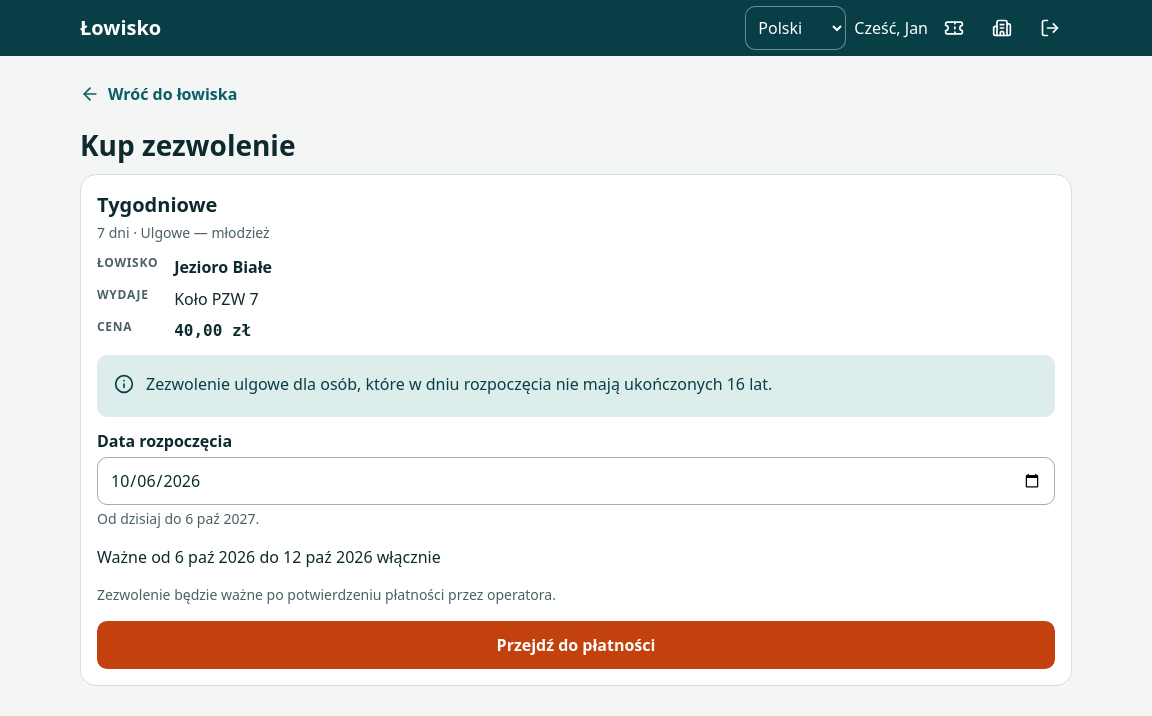
Test: buy permit page › shows why the API refused the purchase
The width and height of the screenshot is (1152, 716).
Expected: the text "Zezwolenie ulgowe dla osób, które w dniu rozpoczęcia nie mają ukończonych 16 lat." is shown, [146,373,772,395]
Click the button "Przejdź do płatności" at (576, 645), box [97,621,1055,669]
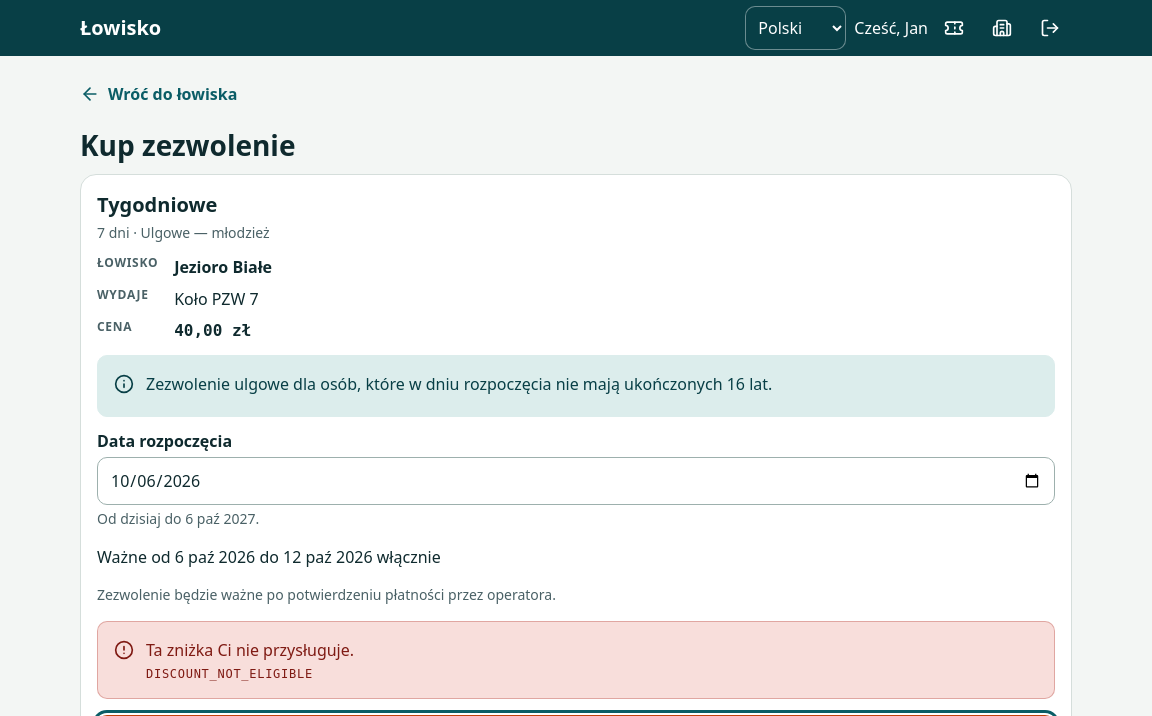
Expected: the text "Ta zniżka Ci nie przysługuje." is shown, [146,639,354,661]
